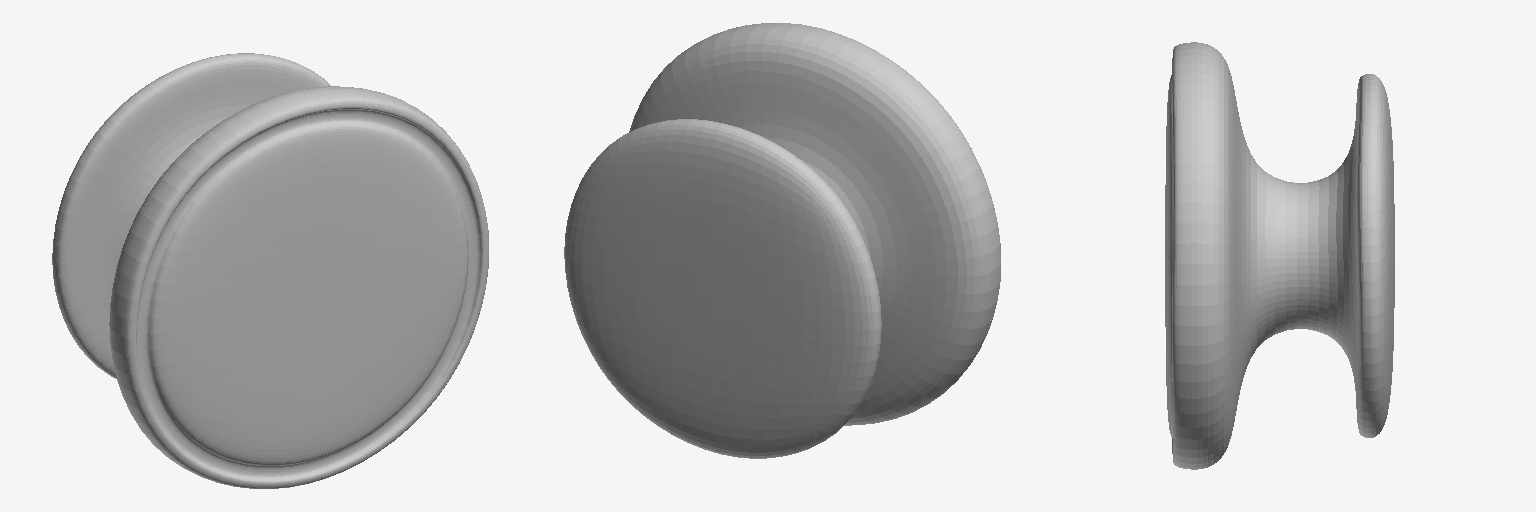
The model's file is 10905_door knob_v1_L3.obj.
3 renders of one model, left to right at view 1: azimuth 30°, elevation 25°; view 2: azimuth 150°, elevation 25°; view 3: azimuth 270°, elevation 25°, orthographic.
Visible parts, largest first — view 1: doorknob; view 2: doorknob; view 3: doorknob.
Part boxes in pixels (x1,y1,x2,y2): doorknob: (52,53,488,488); doorknob: (564,23,1000,458); doorknob: (1165,42,1394,469).
Bounding box in the file's own units: 4.93 × 4.93 × 2.66.